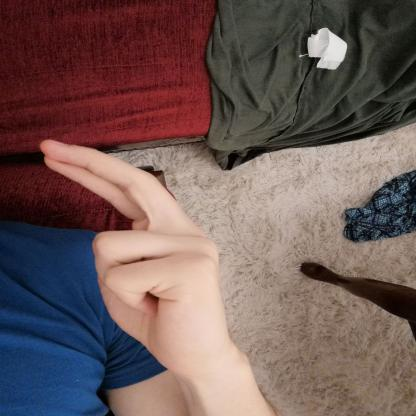ZAY: (29, 133, 236, 385)
